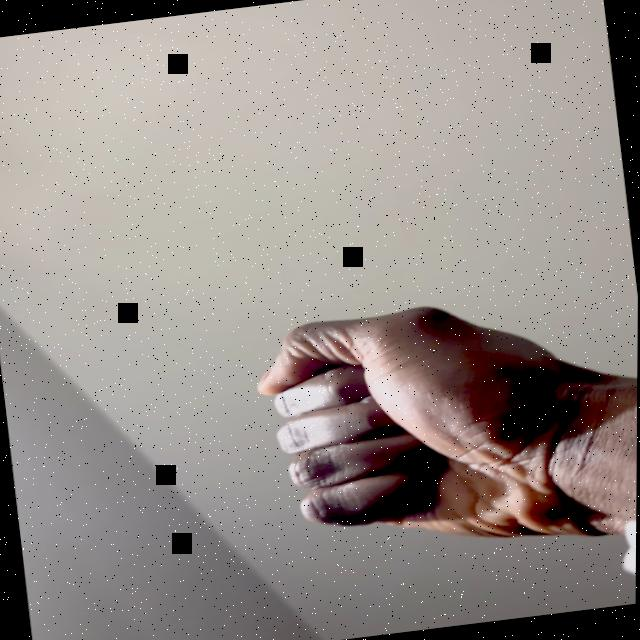Rock: (251, 282, 635, 572)
